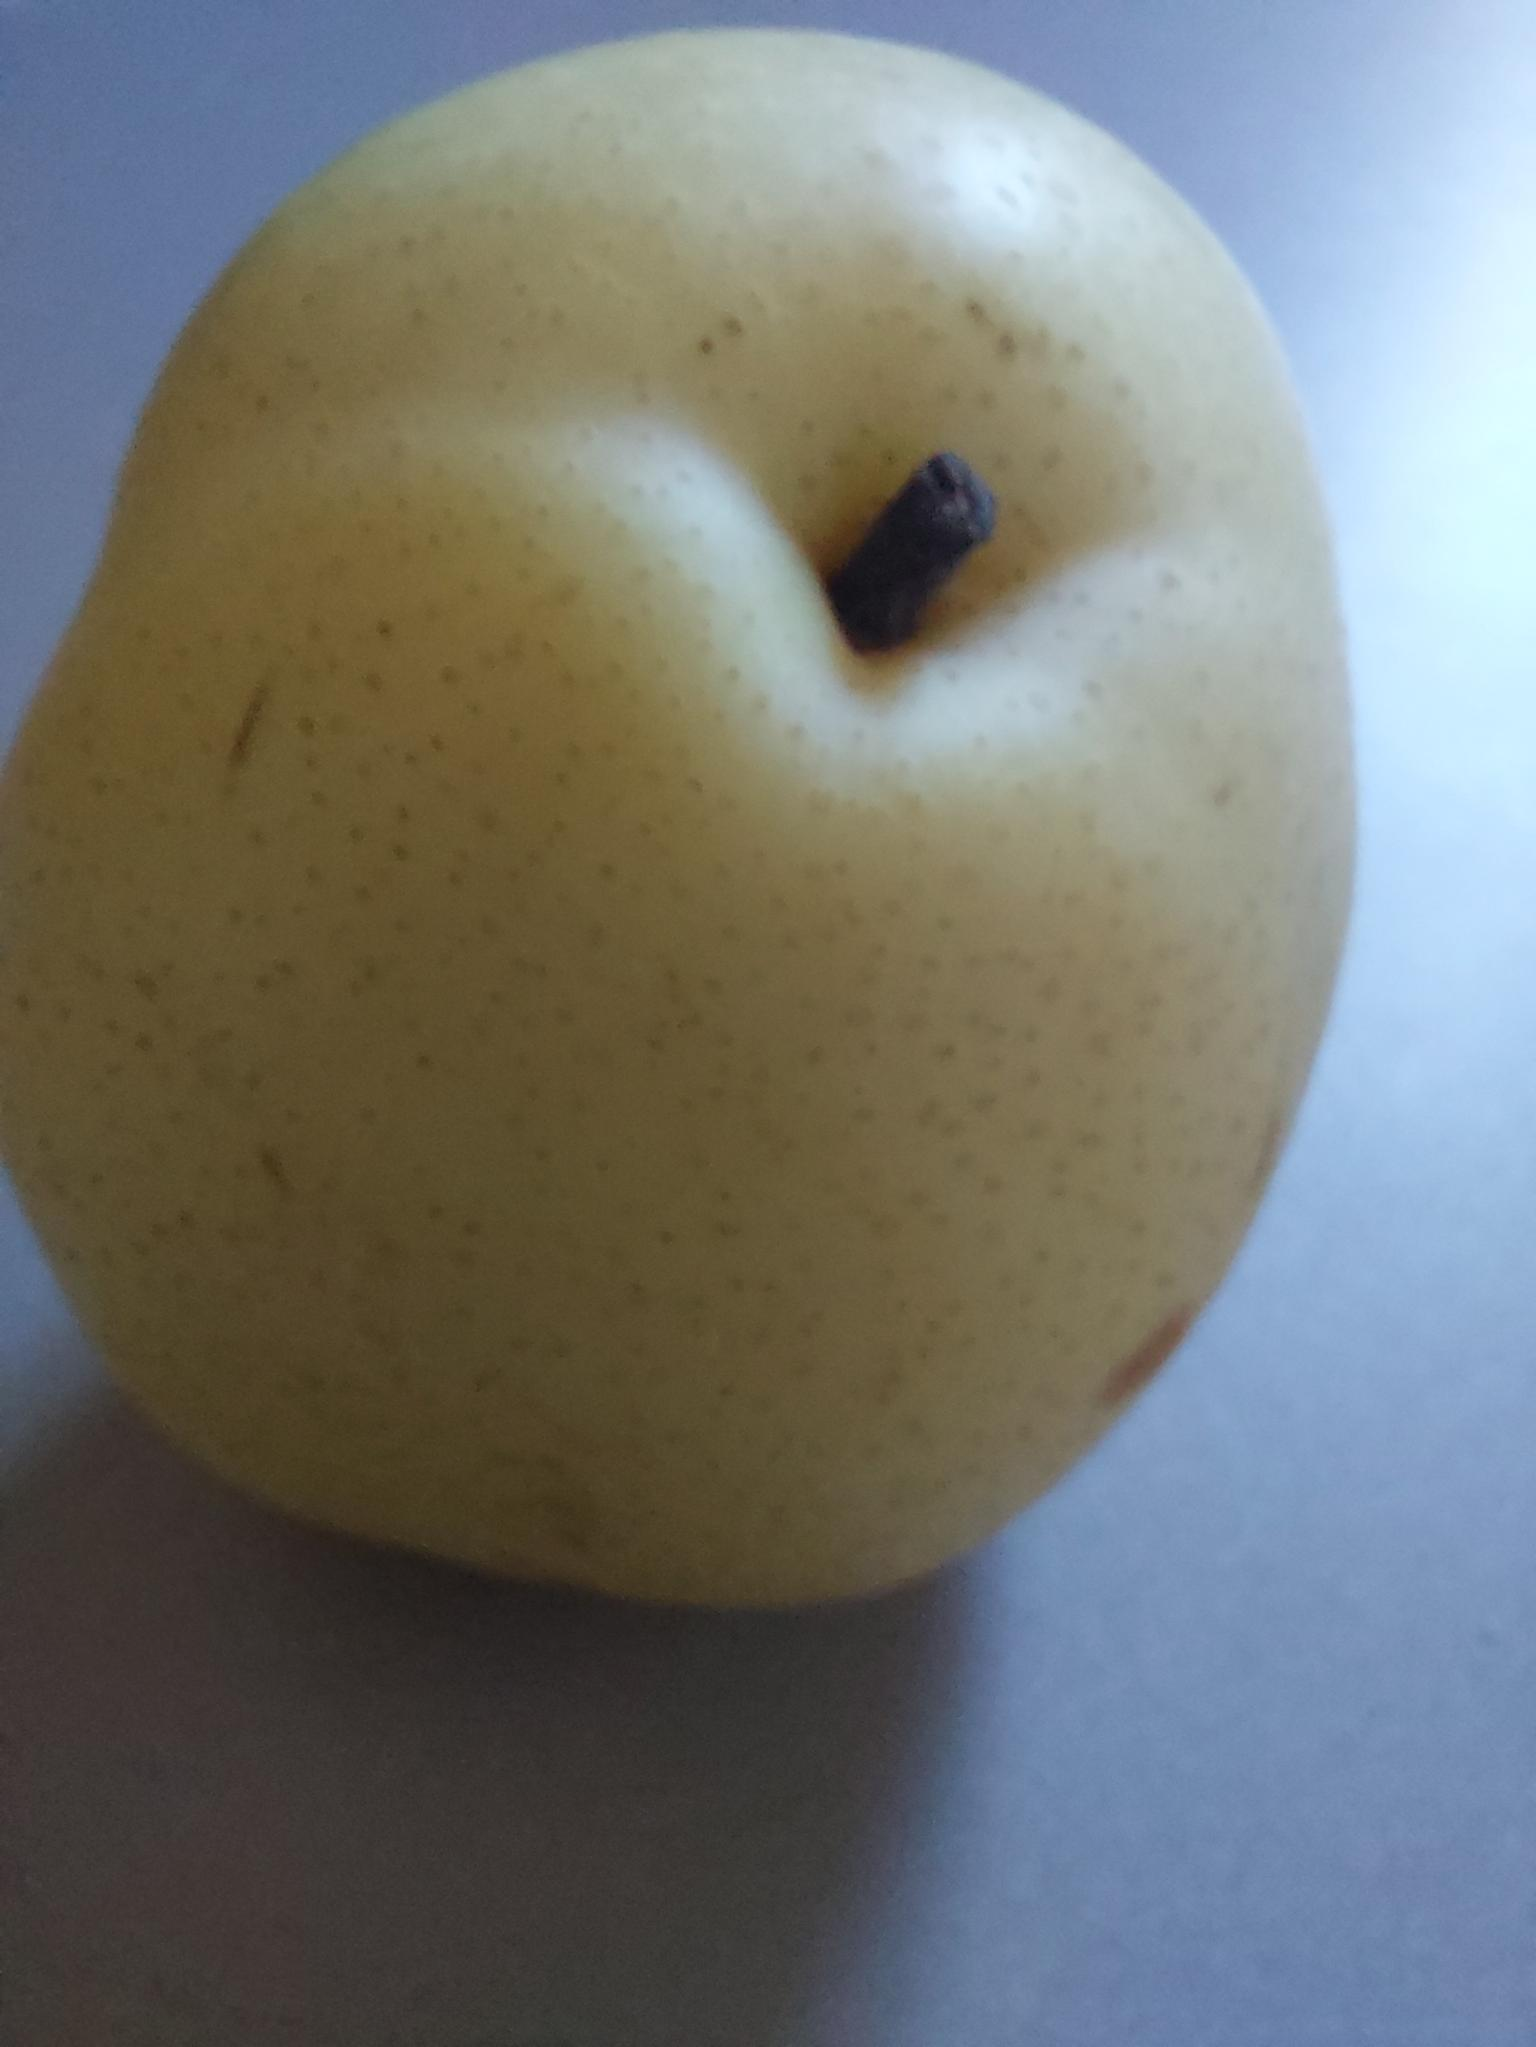Good Pear: (0, 0, 1536, 1668)
